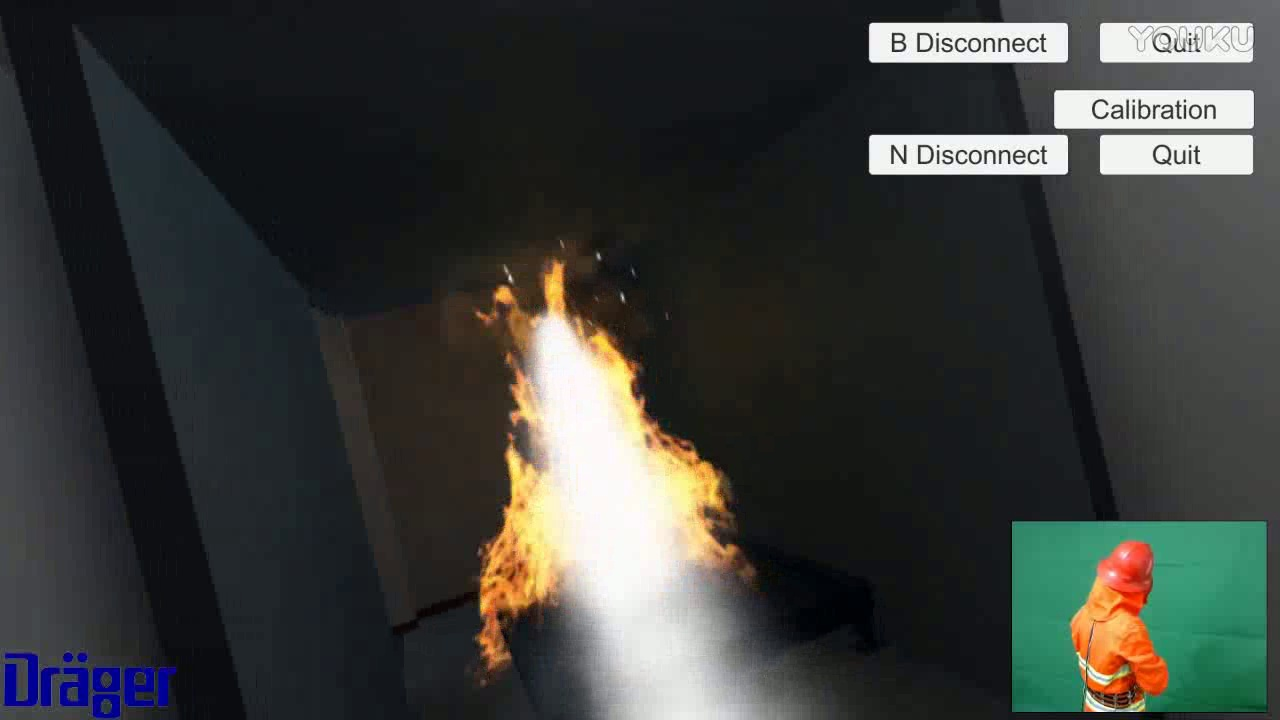fire: (454, 248, 751, 673)
